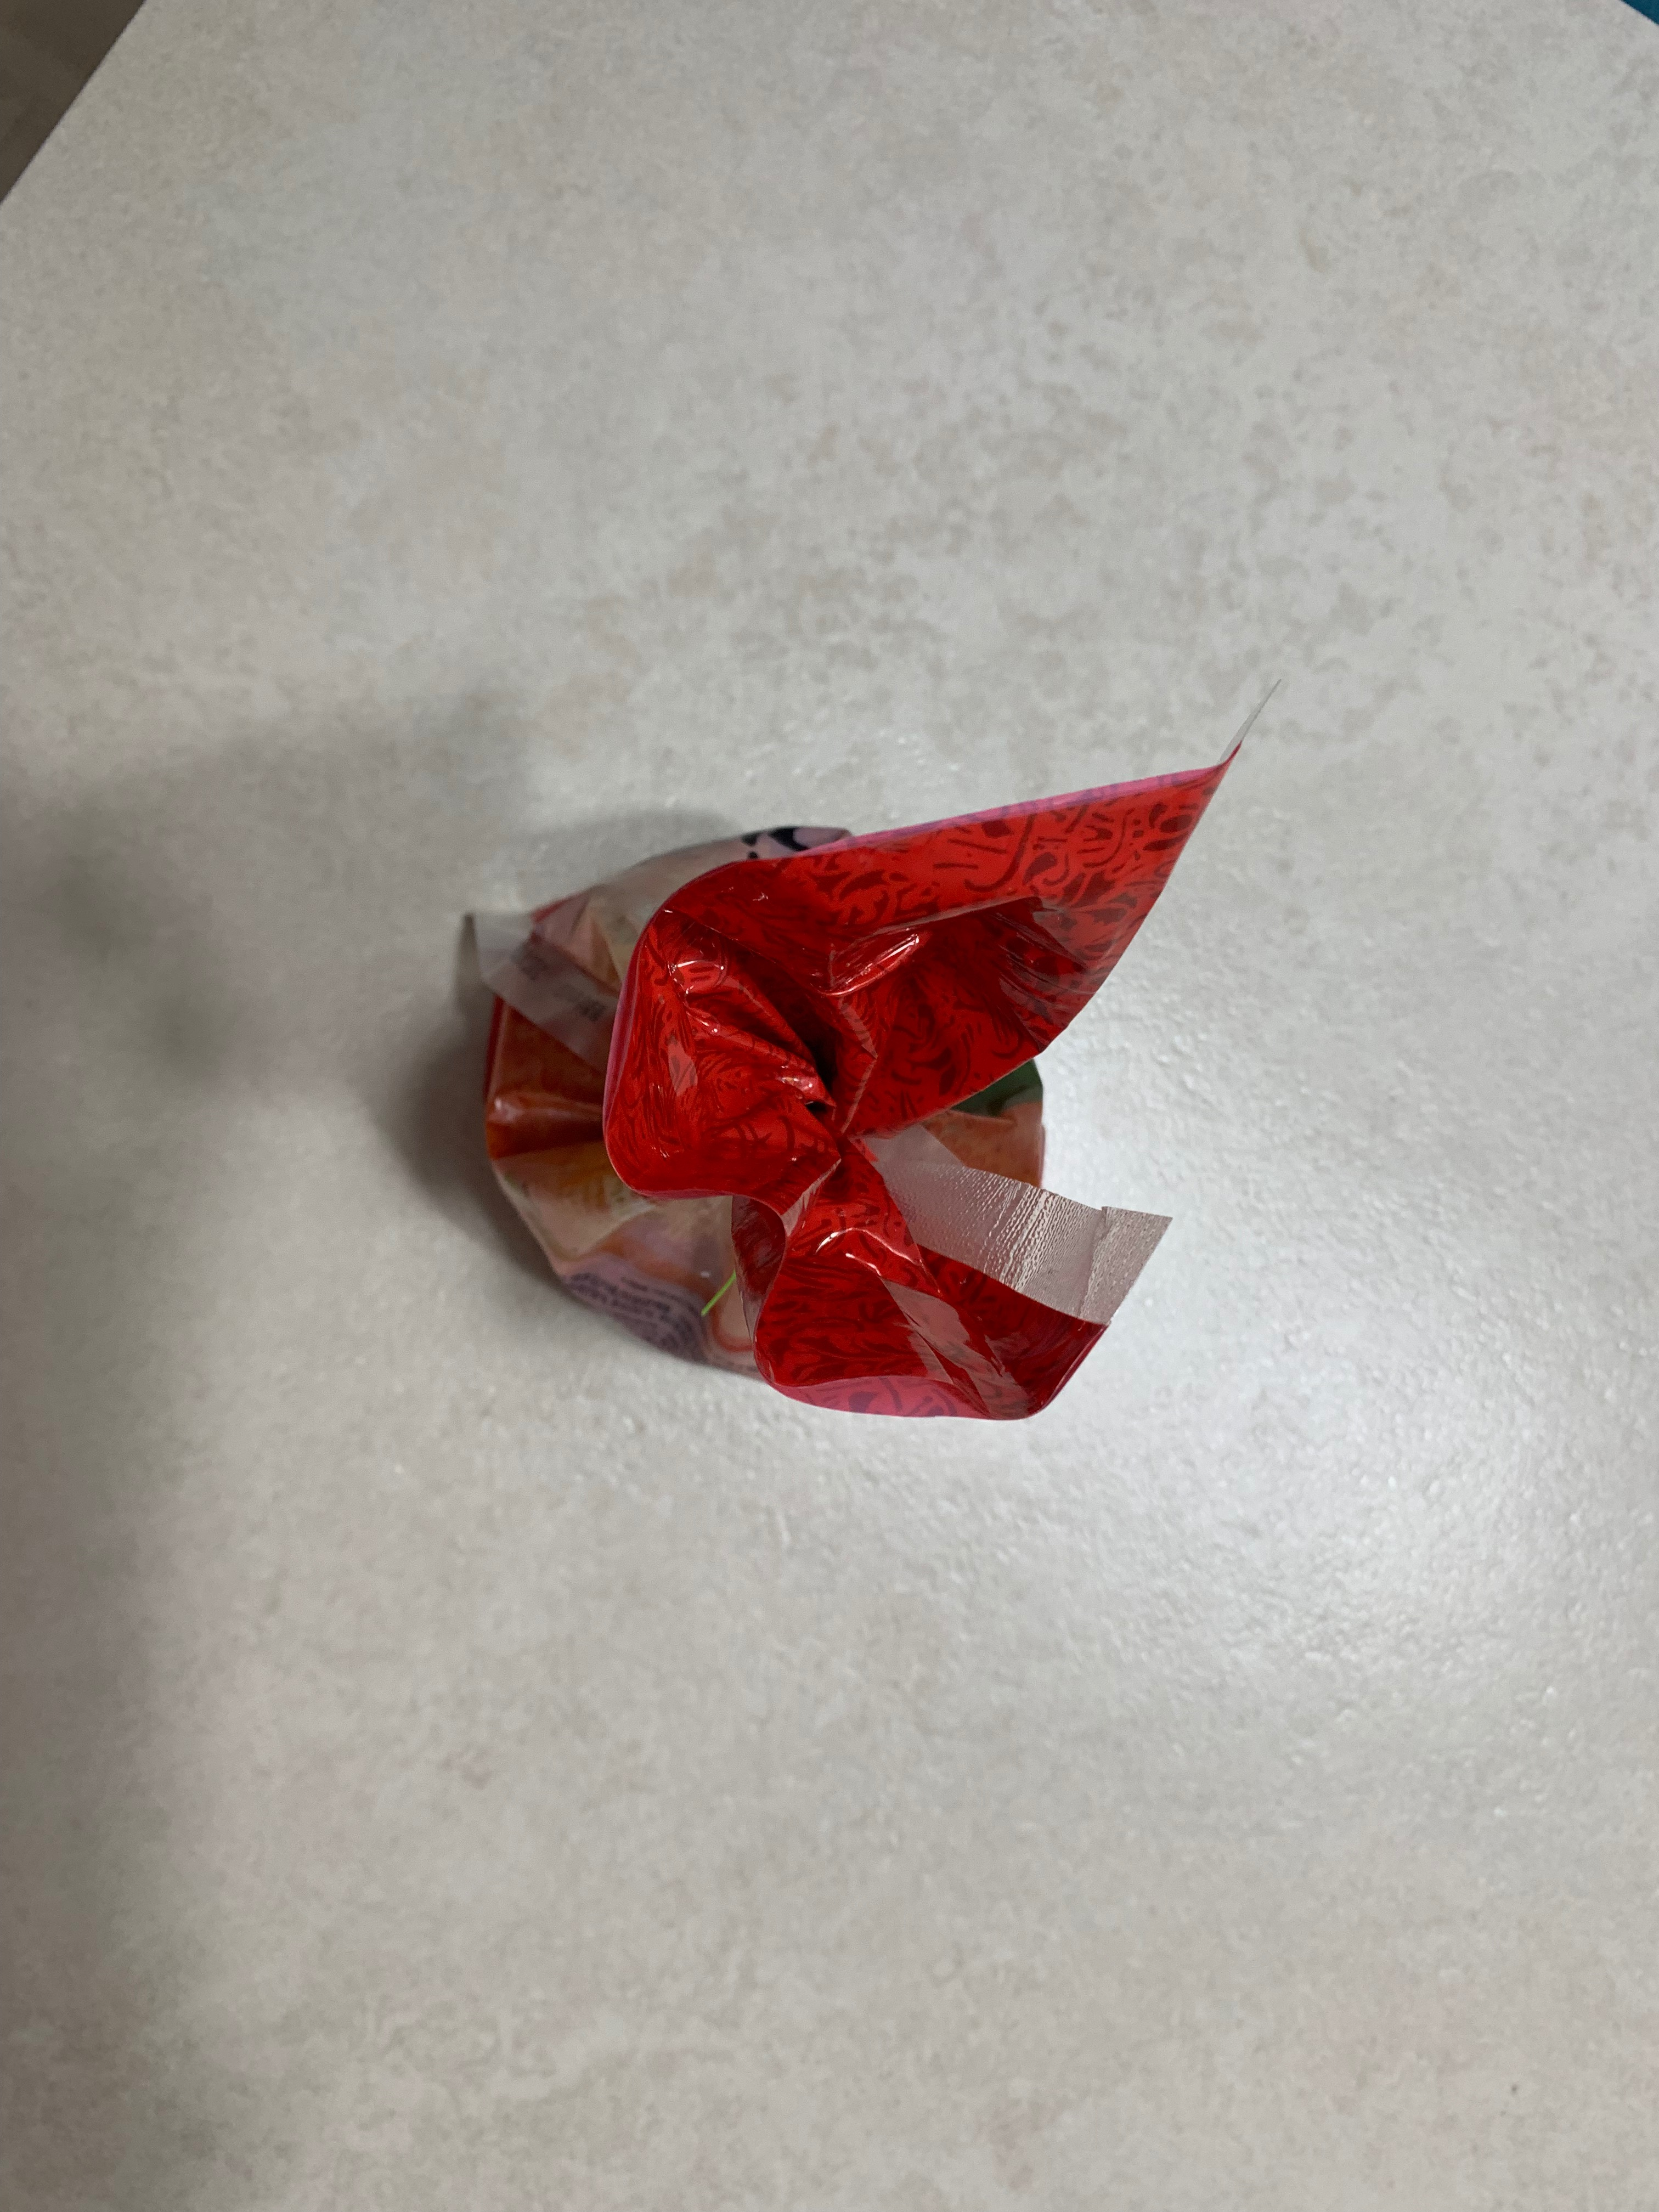kimchi: (472, 773, 1220, 1420)
